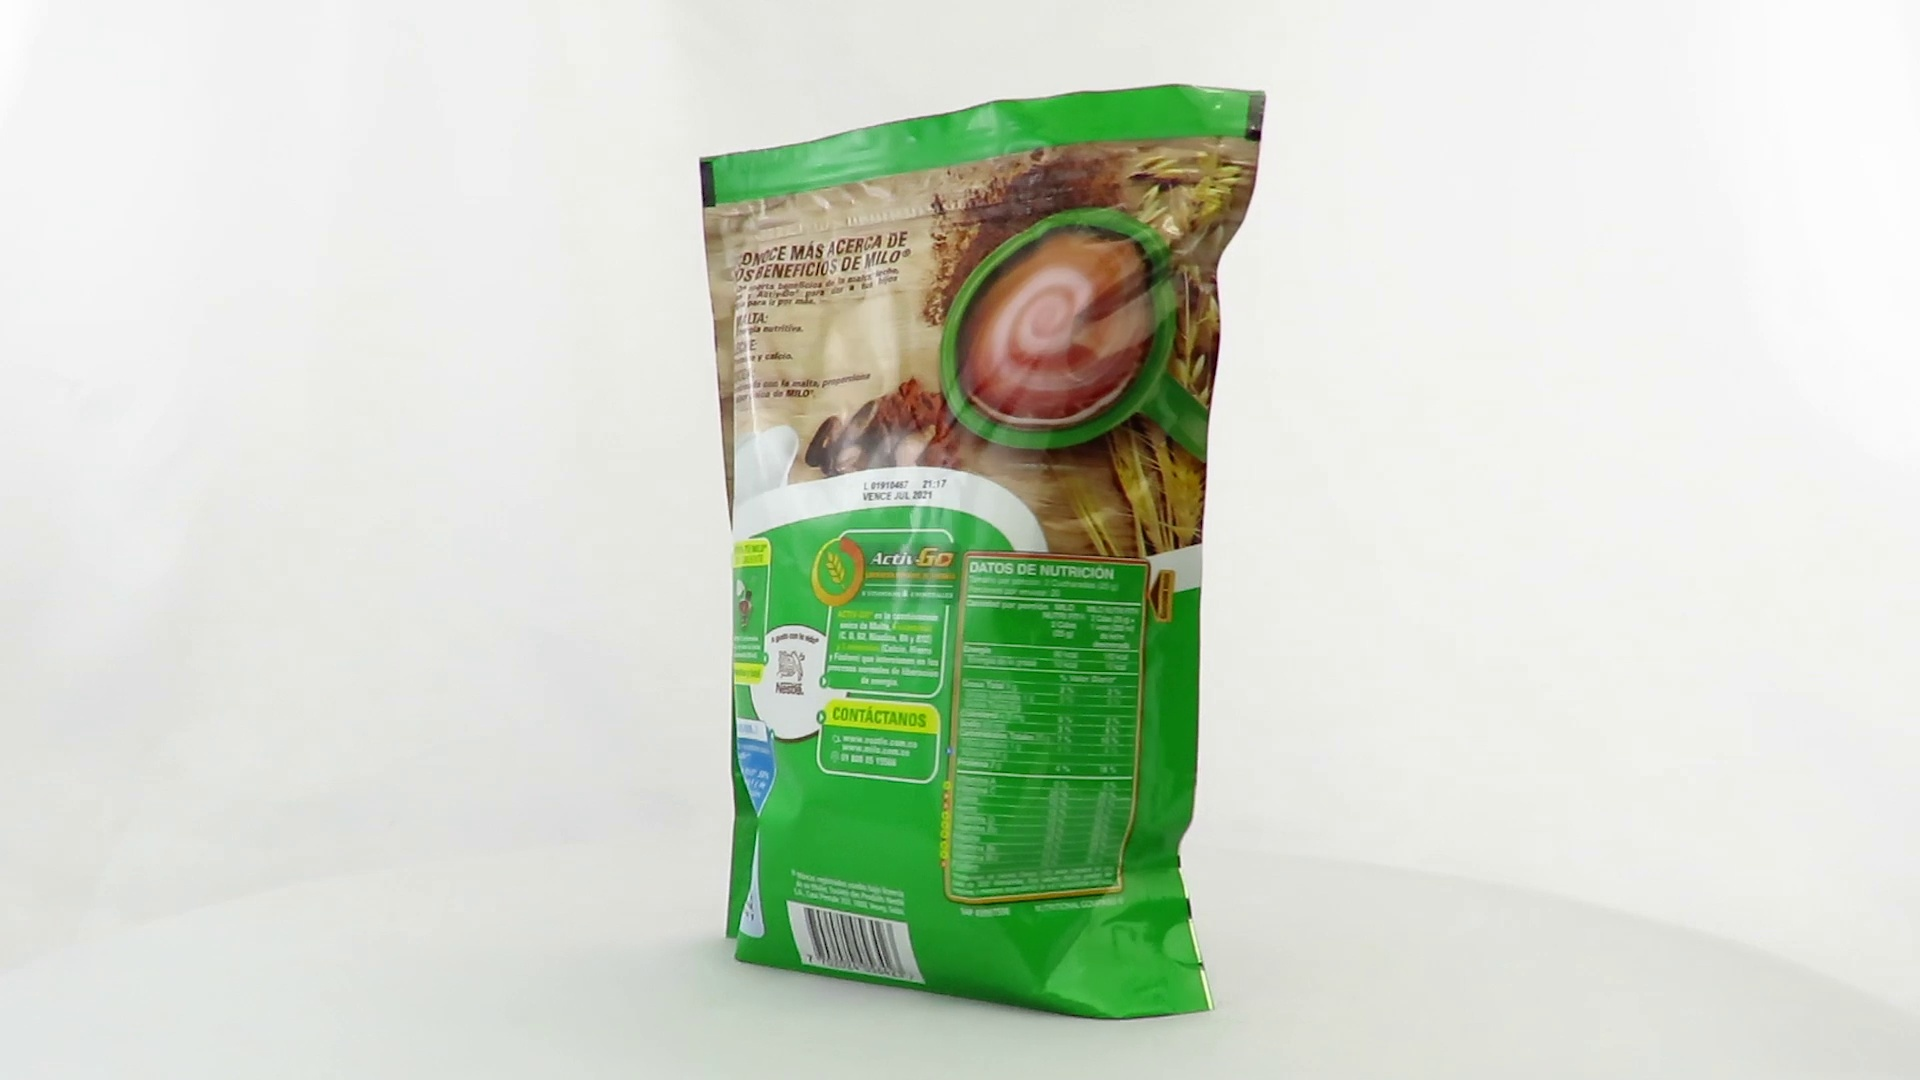COL0170205DYP50000: (694, 78, 1273, 1027)
